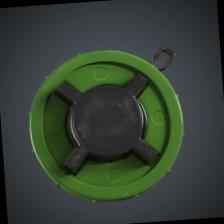PMN2: (16, 28, 194, 224)
